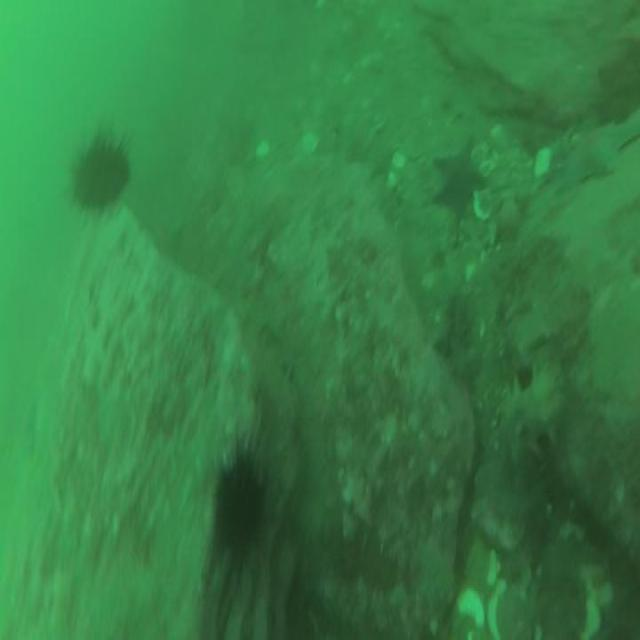echinus: (213, 461, 263, 558), (74, 142, 129, 205)
holothurian: (506, 364, 566, 456)
starfish: (554, 112, 640, 185), (434, 136, 481, 215)
